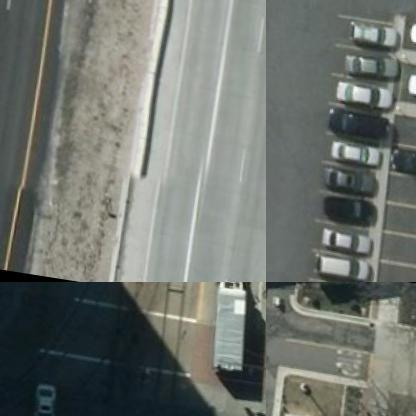car: (319, 106, 390, 142), (324, 79, 394, 115), (332, 49, 398, 84), (343, 20, 408, 54), (317, 228, 373, 260), (320, 196, 376, 228), (318, 164, 374, 196), (330, 145, 386, 177), (310, 254, 367, 281), (24, 381, 64, 415), (401, 17, 415, 58), (405, 73, 415, 110)
